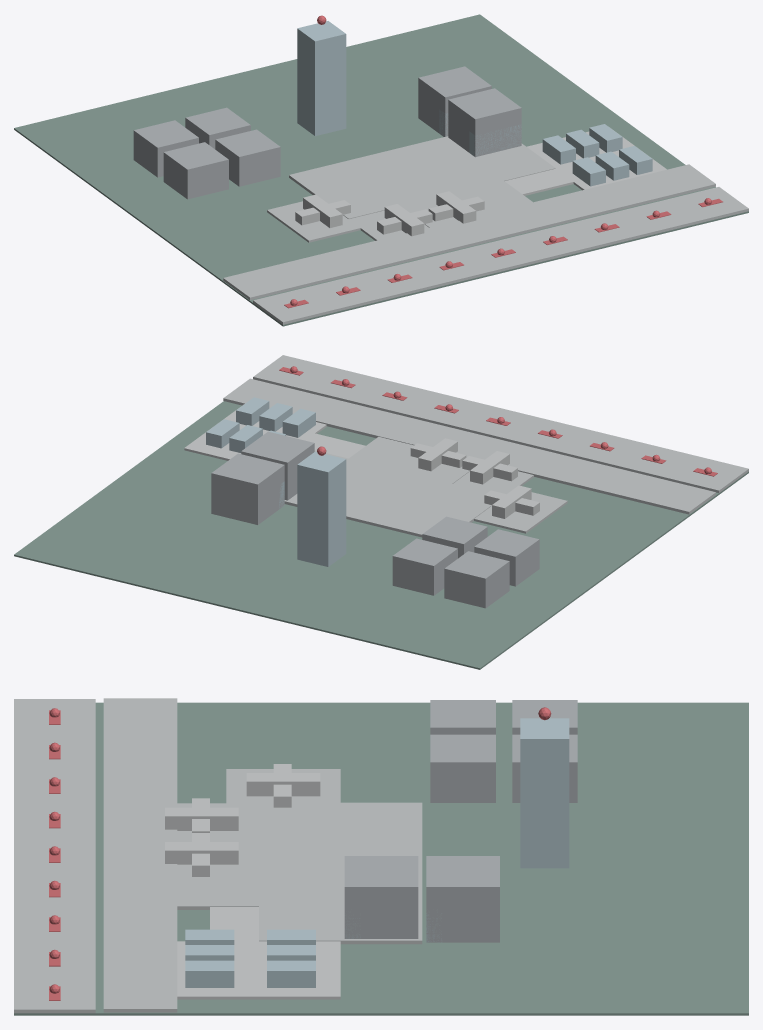
Rendered from stage_18.glb.
3 views of the same model, one above another, from view 1: azimuth 30°, elevation 25°; view 2: azimuth 150°, elevation 25°; view 3: azimuth 270°, elevation 25° (orthographic). The views are drawn at different scales.
Visible parts, largest first — view 1: geometry_0; view 2: geometry_0; view 3: geometry_0.
Boxes of the visible parts, x1=… form: geometry_0: x1=14, y1=14, x2=748, y2=326; geometry_0: x1=14, y1=355, x2=748, y2=669; geometry_0: x1=14, y1=698, x2=748, y2=1015.
Size of the model in its own units: 9 by 2.06 by 9.
